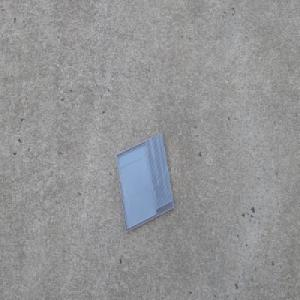PlasticPart: (115, 132, 174, 233)
